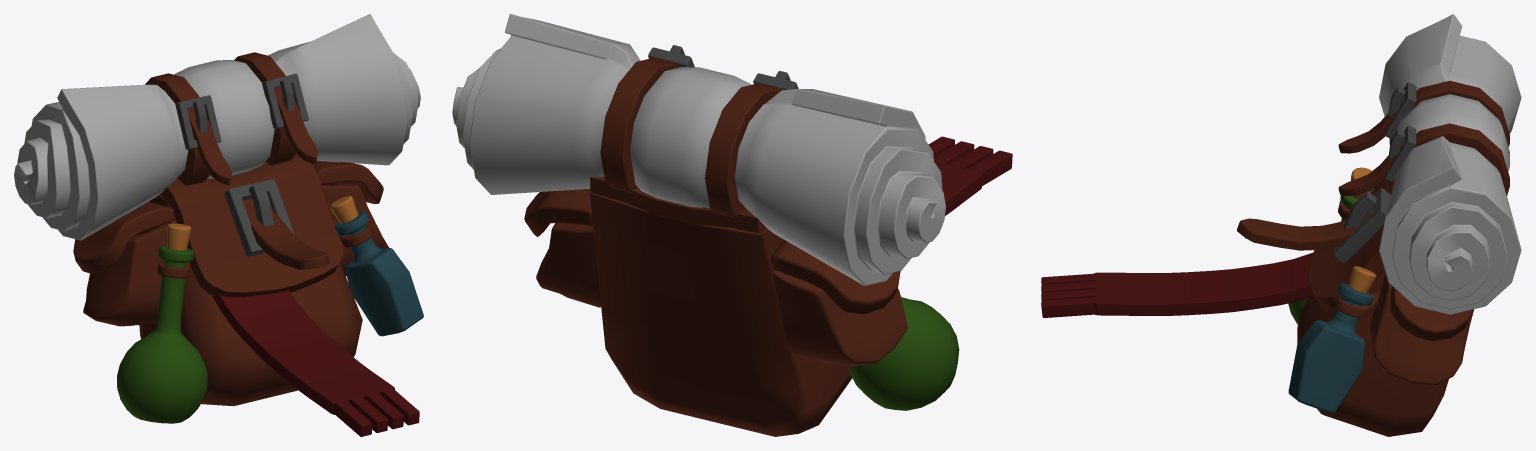
File: Backpack01.fbx
3 renders of one model, left to right at view 1: azimuth 30°, elevation 25°; view 2: azimuth 150°, elevation 25°; view 3: azimuth 270°, elevation 25°, orthographic. The views are drawn at different scales.
Parts seen in each view (by area): view 1: Backpack01; view 2: Backpack01; view 3: Backpack01.
Boxes of the visible parts, x1,y1,x2,y2 form: Backpack01: [14, 14, 423, 436]; Backpack01: [452, 14, 1012, 436]; Backpack01: [1041, 14, 1521, 436].
Bounding box in the file's own units: 45.14 × 35.1 × 47.5.
